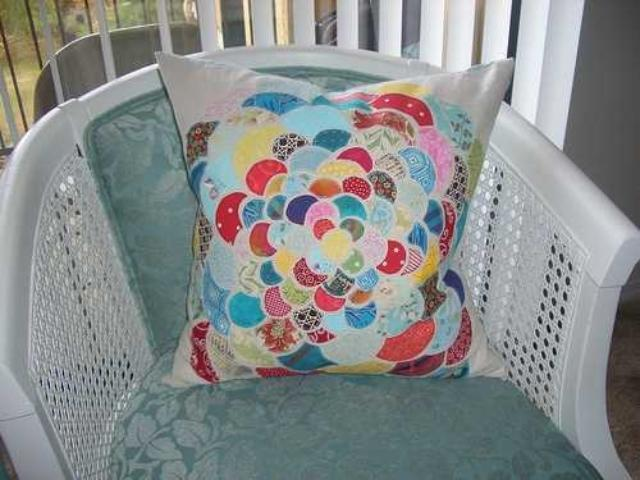pillow: (152, 48, 514, 388)
